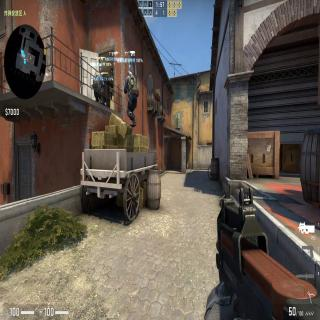CT-Body: (124, 70, 139, 129)
CT-Head: (128, 71, 132, 76)
